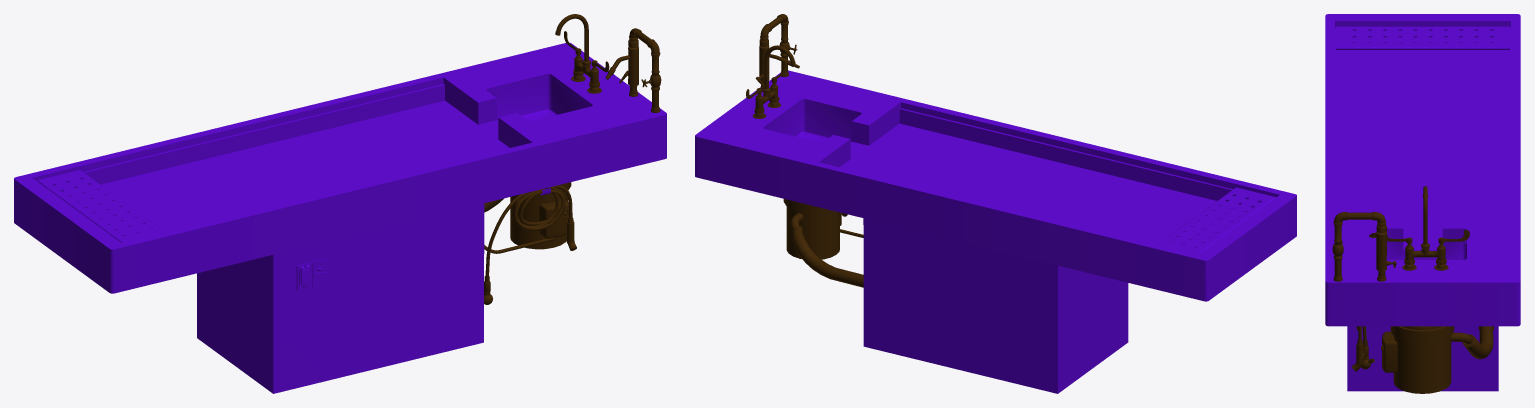
Rendered from Autopos_Table.FBX.
The picture shows the model from 3 angles, left to right: view 1: azimuth 30°, elevation 25°; view 2: azimuth 150°, elevation 25°; view 3: azimuth 270°, elevation 25°; orthographic projection. The views are drawn at different scales.
Visible parts, largest first — view 1: table_03_low001, body_support_26_low003; view 2: table_03_low001, body_support_26_low003; view 3: table_03_low001, body_support_26_low003.
Part boxes in pixels (left/top/right/bottom): table_03_low001: left=14, top=14, right=666, bottom=393; body_support_26_low003: left=37, top=170, right=164, bottom=242; table_03_low001: left=695, top=14, right=1296, bottom=393; body_support_26_low003: left=1157, top=187, right=1275, bottom=254; table_03_low001: left=1325, top=14, right=1520, bottom=393; body_support_26_low003: left=1336, top=26, right=1509, bottom=49.
Bounding box in the file's own units: 264 × 81 × 121.
